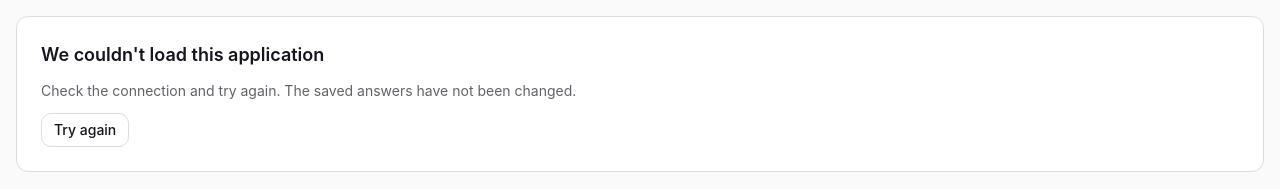
it: SWEditApplicationPage SACA-2 gate › Try again re-runs the lookup with a new retry key and shows loading while it is pending
The width and height of the screenshot is (1280, 189).
Step 1. Click the button "Try again" → point(85, 130), box [41, 113, 129, 147]
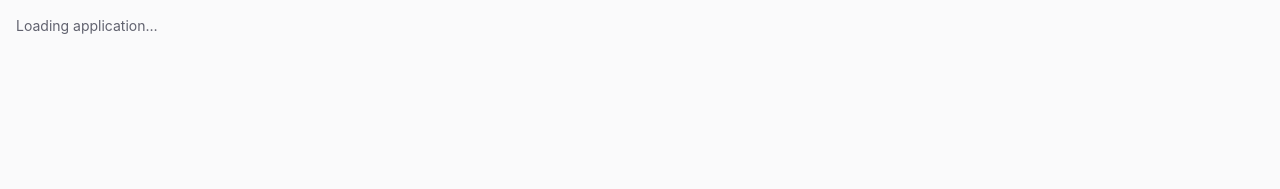
Expected: the text "Loading application…" is shown, [16, 17, 158, 34]
Expected: the message with test id "application-lookup-error" is gone
